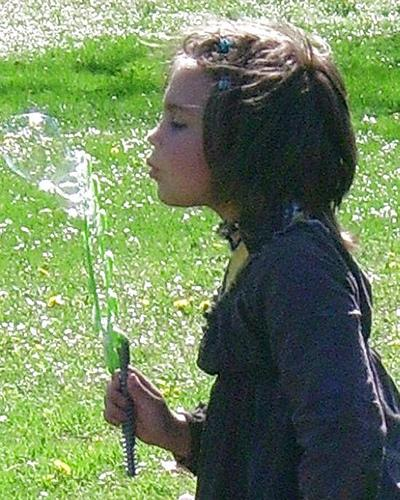person: (102, 20, 399, 500)
